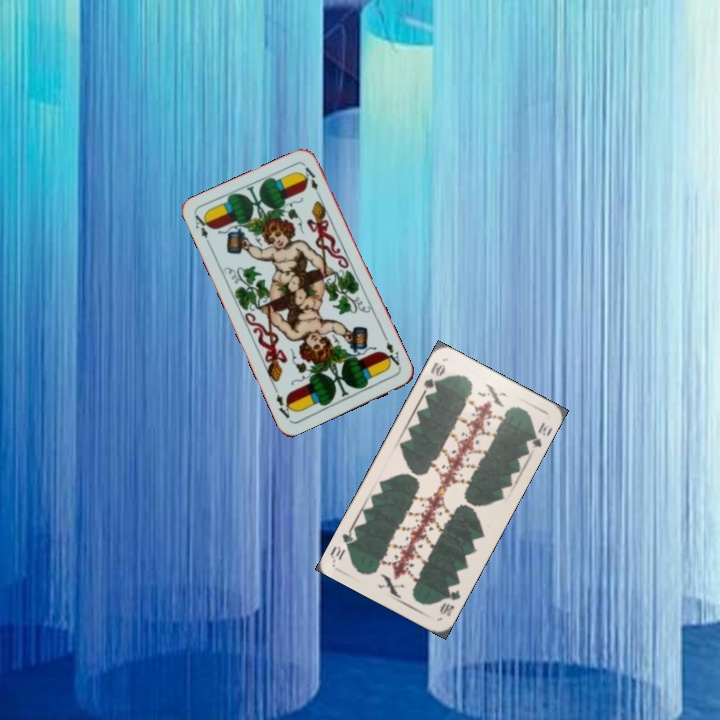EA: (191, 211, 214, 250), (380, 338, 404, 371)
G10: (419, 358, 448, 398), (435, 585, 463, 619)
